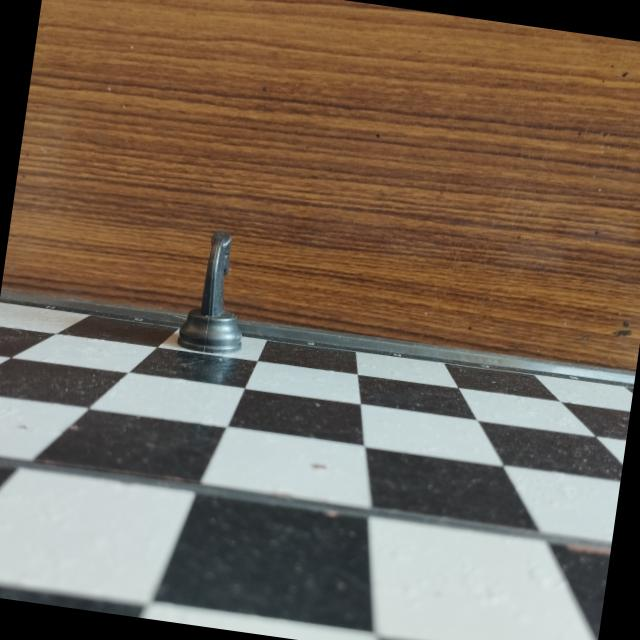Black Knight: (170, 221, 264, 366)
